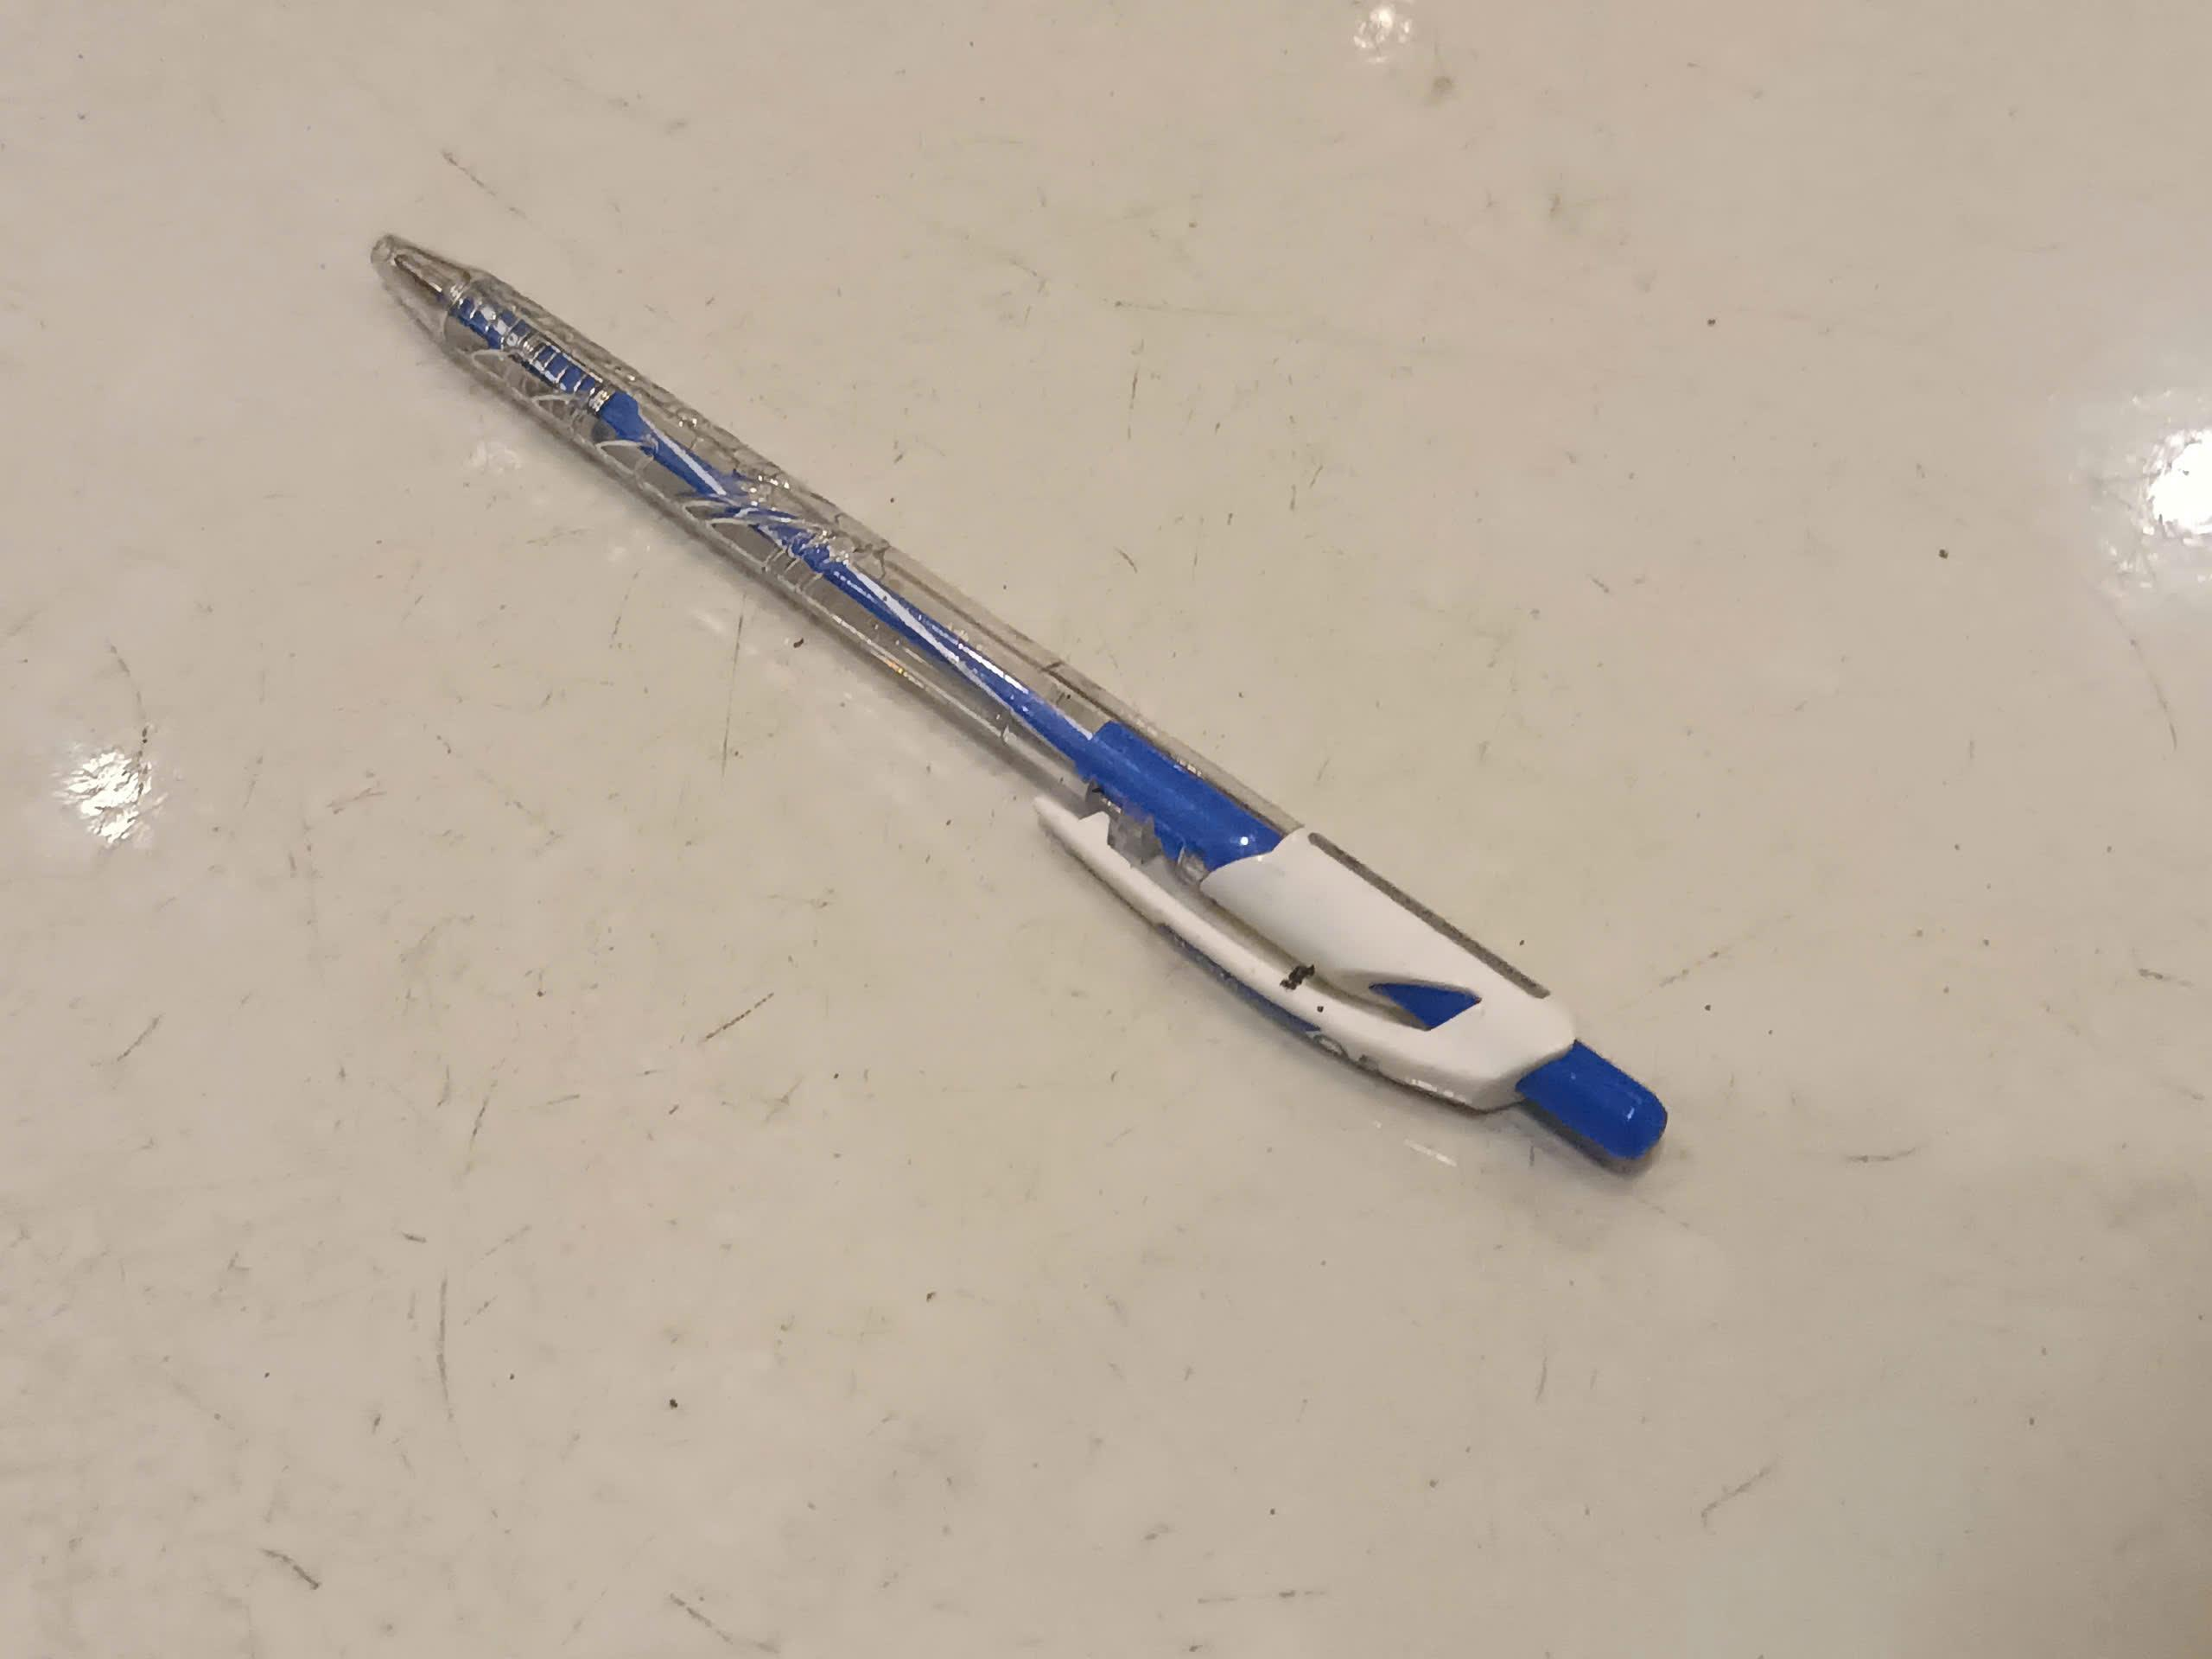Con lai: (369, 232, 1677, 1178)
